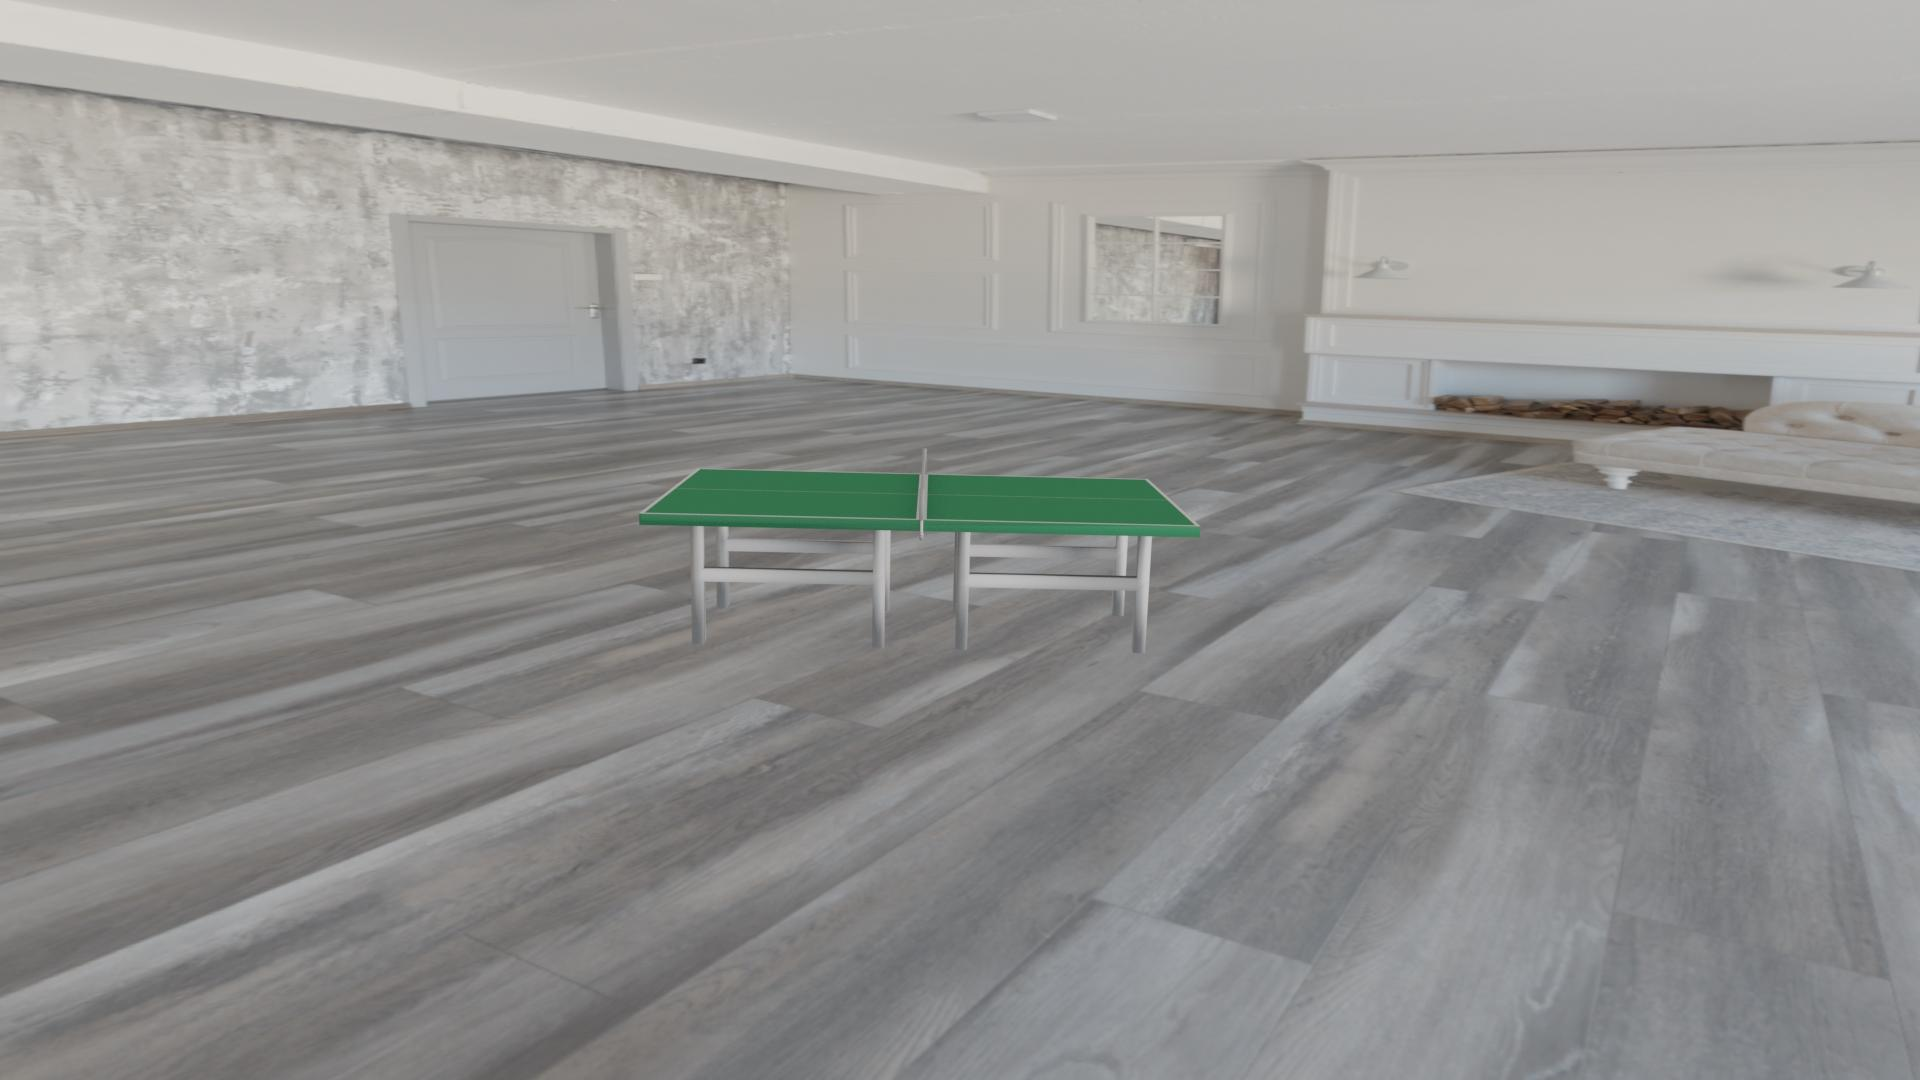table: (644, 469, 1196, 525)
